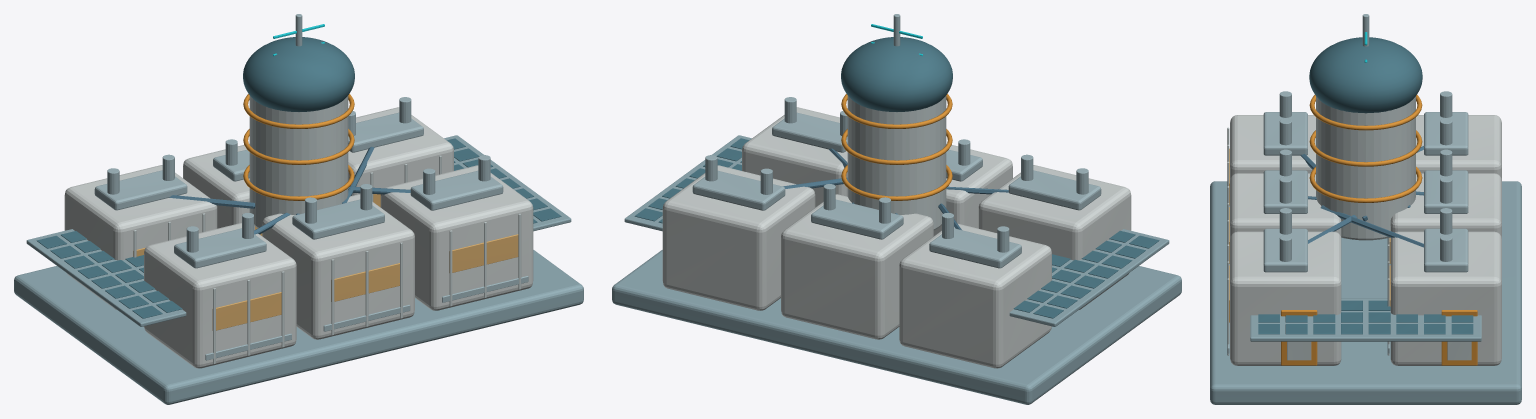
The model's file is runner_day_research_hub_landmark_v1.glb.
The picture shows the model from 3 angles, left to right: view 1: azimuth 30°, elevation 25°; view 2: azimuth 150°, elevation 25°; view 3: azimuth 270°, elevation 25°; orthographic projection.
Parts seen in each view (by area): view 1: runner_day_research_hub_landmark_v1; view 2: runner_day_research_hub_landmark_v1; view 3: runner_day_research_hub_landmark_v1.
Boxes of the visible parts, box(x1,y1,x2,y2) form: runner_day_research_hub_landmark_v1: box(14, 14, 583, 404); runner_day_research_hub_landmark_v1: box(612, 14, 1181, 404); runner_day_research_hub_landmark_v1: box(1210, 14, 1521, 404).
Size of the model in its own units: 22.6 by 14.27 by 14.
